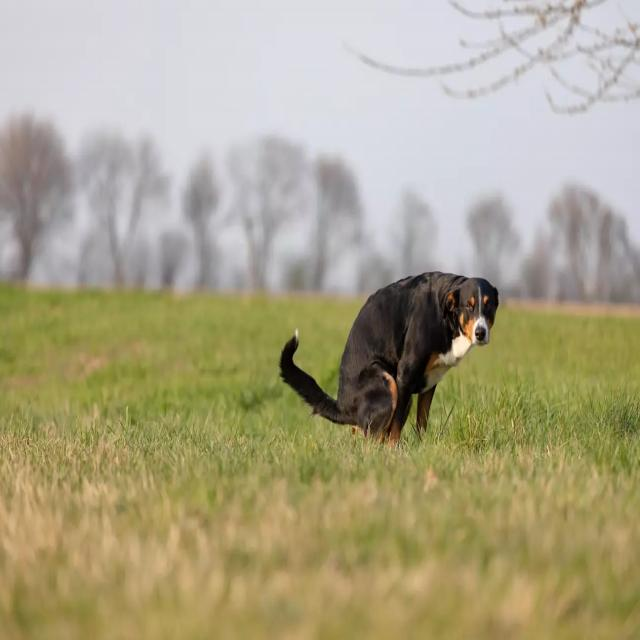Dogpoop: (278, 252, 503, 447)
